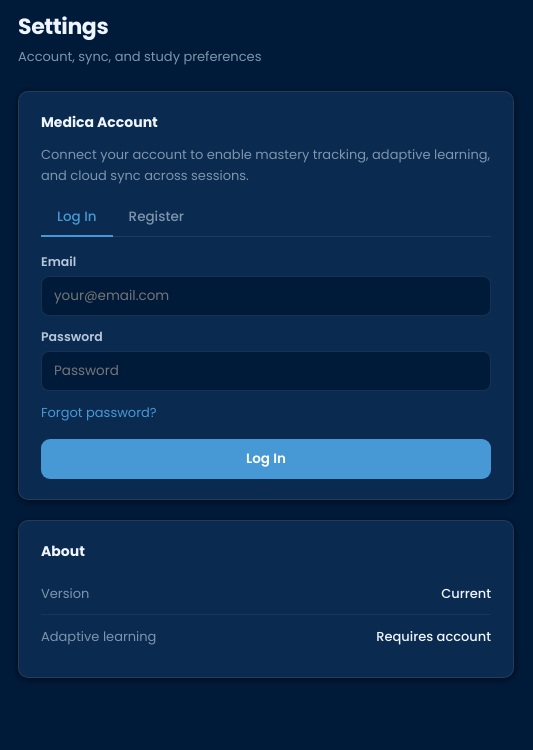
Test: SettingsPage form submission › shows a friendly message when the backend is unreachable (Chrome)
The width and height of the screenshot is (533, 750).
Click the tab "Register".
click(156, 218)  # box [113,199,200,237]
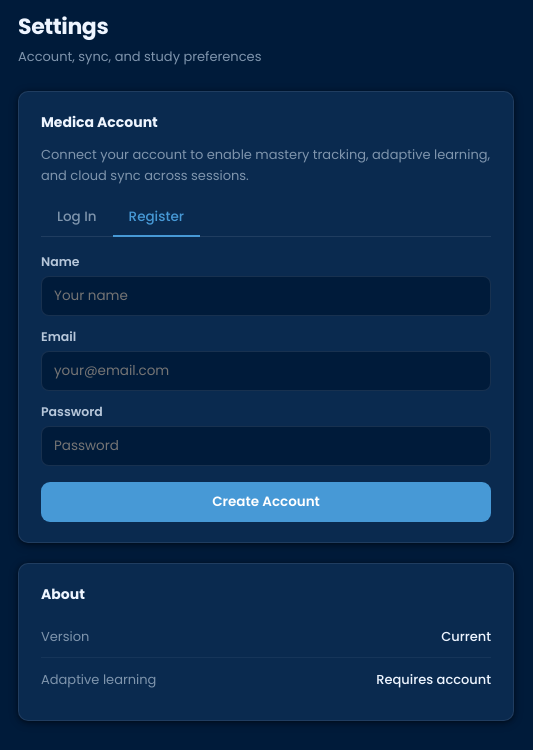
Type "Alice" into the field labelled "Name".
click(266, 296); type("Alice")  # box [41,276,491,316]
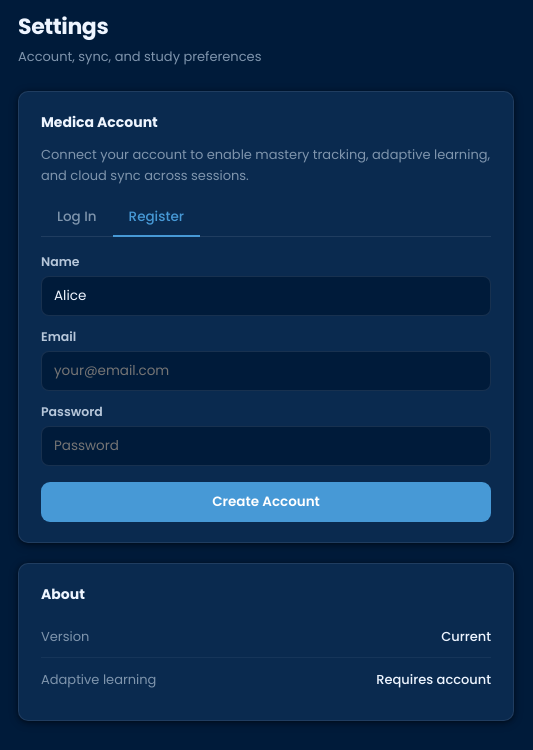
Type "alice@example.com" into the field labelled "Email".
click(266, 371); type("alice@example.com")  # box [41,351,491,391]
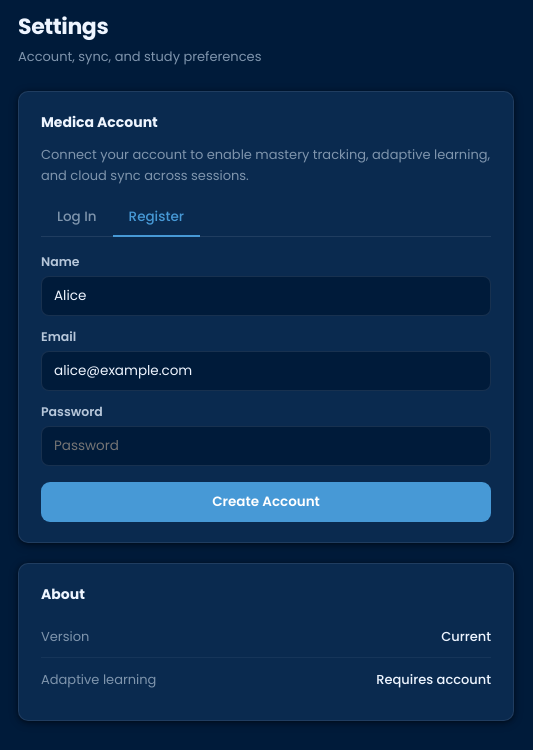
Type "Password1!" into the password field labelled "Password".
click(266, 446); type("Password1!")  # box [41,426,491,466]
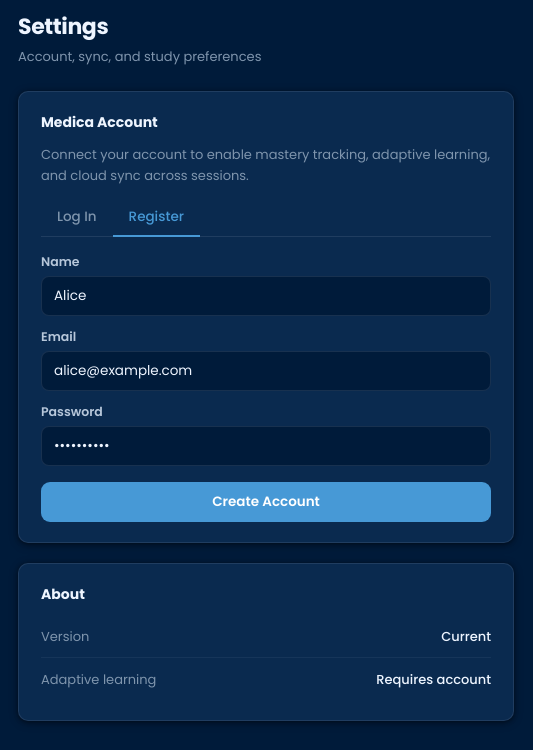
Click the button "Create Account".
click(266, 502)  # box [41,482,491,522]
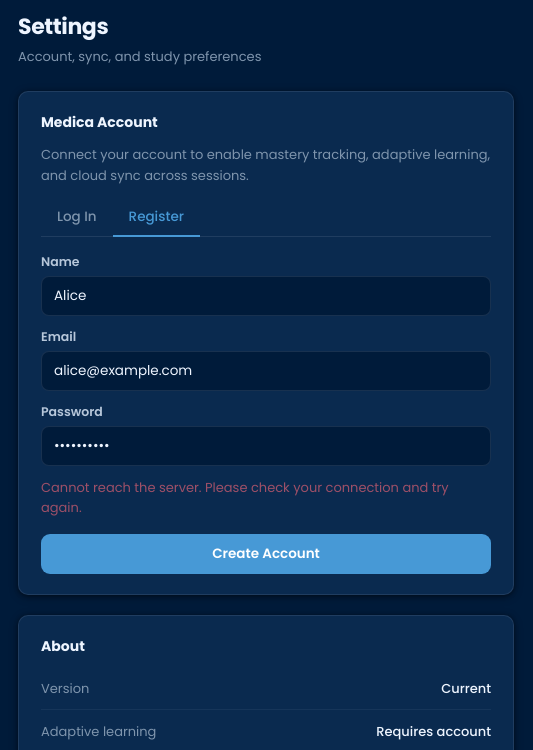
Result: the text "Cannot reach the server" is shown at [41,478,449,517]
